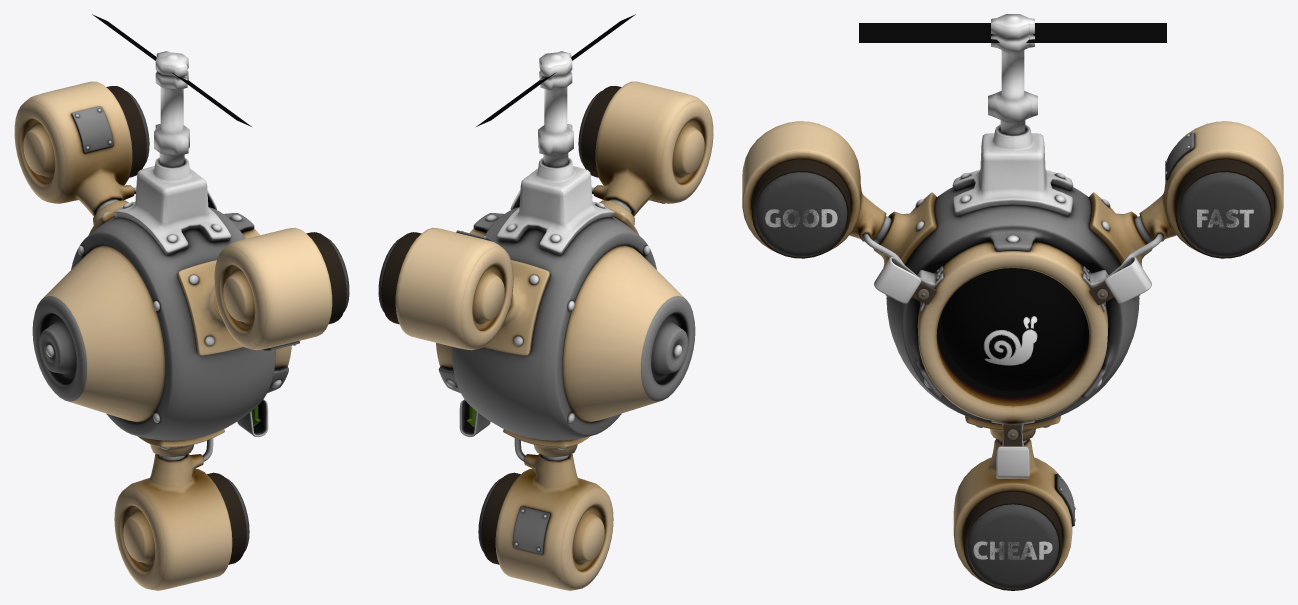
The model's file is gfc-hq.glb.
3 renders of one model, left to right at view 1: azimuth 30°, elevation 25°; view 2: azimuth 150°, elevation 25°; view 3: azimuth 270°, elevation 25°, orthographic. The views are drawn at different scales.
Parts seen in each view (by area): view 1: casing, arm2, arm1, arm3, propeller, button2, button1, button3; view 2: casing, arm3, arm1, arm2, propeller, button3, button1, button2; view 3: casing, ball, arm3, arm2, propeller, button1, button2, button3, arm1.
Part boxes in pixels (box(x1,y1,x2,y2)): casing: box(32, 157, 291, 440); arm2: box(177, 227, 332, 355); arm1: box(114, 399, 268, 590); arm3: box(14, 81, 216, 235); propeller: box(92, 14, 251, 167); button2: box(306, 232, 349, 324); button1: box(207, 472, 249, 564); button3: box(106, 86, 149, 177); casing: box(436, 157, 695, 440); arm3: box(395, 227, 550, 355); arm1: box(459, 399, 613, 590); arm2: box(510, 81, 713, 235); propeller: box(476, 14, 635, 167); button3: box(378, 232, 421, 324); button1: box(478, 472, 520, 564); button2: box(578, 86, 621, 177); casing: box(886, 124, 1139, 424); ball: box(941, 268, 1084, 391); arm3: box(1082, 121, 1283, 311); arm2: box(742, 121, 943, 311); propeller: box(859, 14, 1166, 135); button1: box(963, 491, 1062, 590); button2: box(752, 159, 850, 258); button3: box(1175, 159, 1273, 258); arm1: box(953, 416, 1075, 585).
Bounding box in the file's own units: 1.07 × 2.39 × 2.11.
2 materials, 2 textured.
